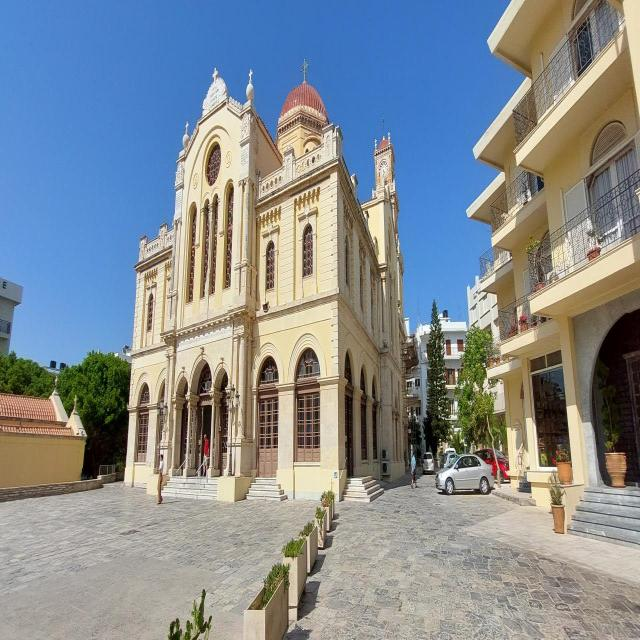Agios Minas: (126, 41, 417, 509)
